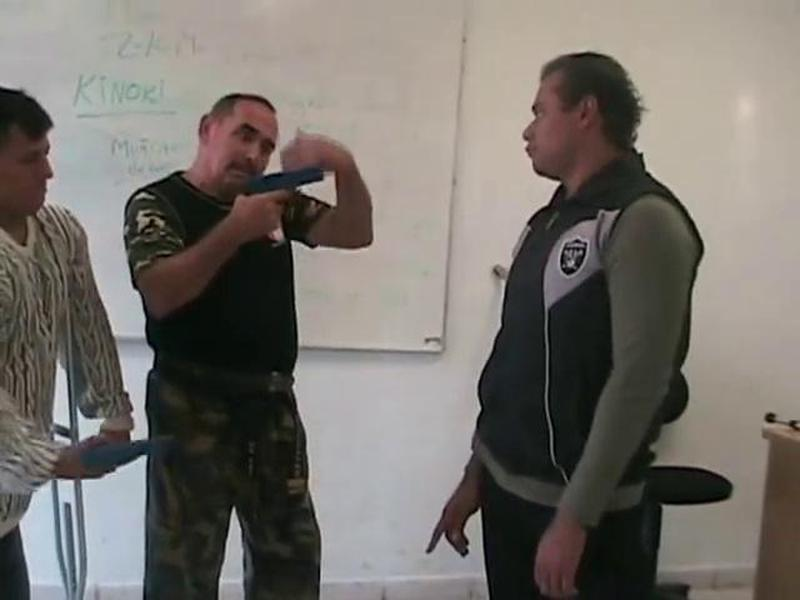Pistola: (238, 140, 338, 232)
